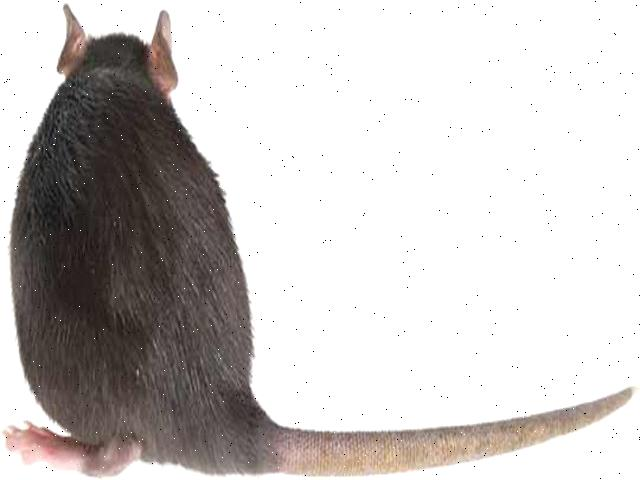Tikus: (11, 4, 474, 478)
